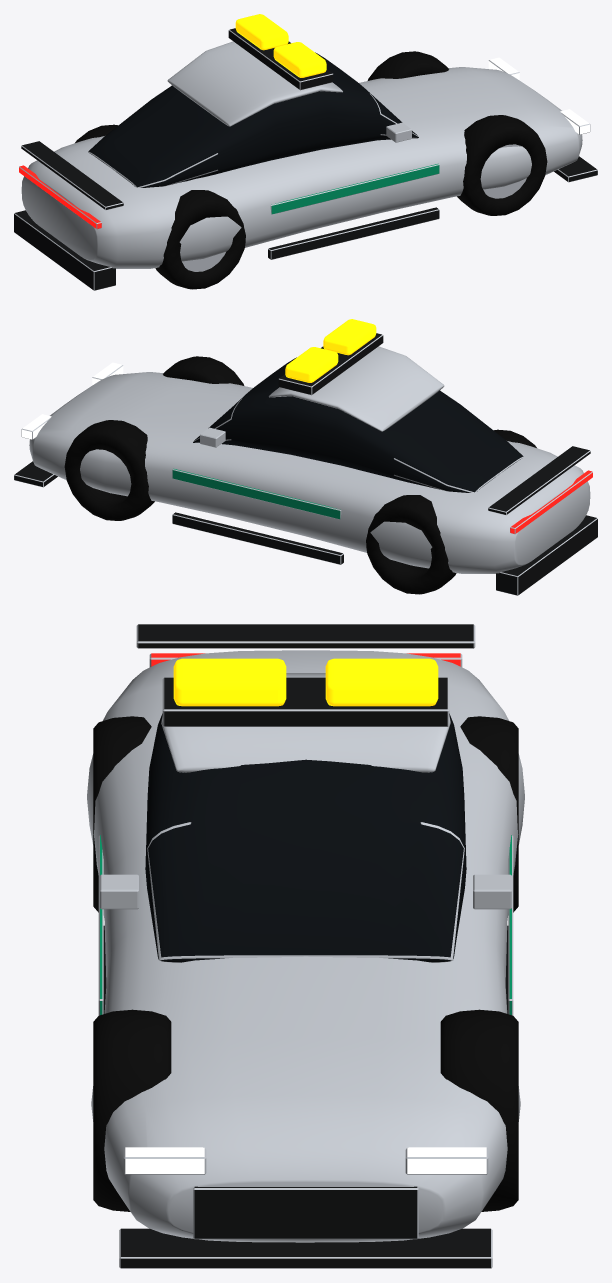
Rendered from safety_car.glb.
3 renders of one model, top to bottom at view 1: azimuth 30°, elevation 25°; view 2: azimuth 150°, elevation 25°; view 3: azimuth 270°, elevation 25°, orthographic. The views are drawn at different scales.
Visible parts, largest first — view 1: sc_body, sc_wheel_FR, sc_wheel_RR, sc_wheel_FL, lamp_R, lamp_L; view 2: sc_body, sc_wheel_FL, sc_wheel_RL, sc_wheel_FR, lamp_L, lamp_R; view 3: sc_body, sc_wheel_FL, sc_wheel_FR, lamp_L, lamp_R, sc_wheel_RL, sc_wheel_RR.
Boxes of the visible parts, x1,y1,x2,y2 form: sc_body: (14, 28, 597, 290); sc_wheel_FR: (457, 115, 547, 215); sc_wheel_RR: (155, 190, 245, 289); sc_wheel_FL: (367, 51, 448, 80); lamp_R: (273, 42, 326, 77); lamp_L: (235, 14, 288, 50); sc_body: (14, 333, 597, 595); sc_wheel_FL: (64, 420, 154, 520); sc_wheel_RL: (366, 495, 456, 594); sc_wheel_FR: (163, 356, 244, 385); lamp_L: (285, 347, 338, 382); lamp_R: (323, 319, 376, 355); sc_body: (87, 624, 524, 1268); sc_wheel_FL: (440, 1009, 518, 1211); sc_wheel_FR: (93, 1009, 171, 1211); lamp_L: (325, 658, 438, 706); lamp_R: (173, 658, 286, 706); sc_wheel_RL: (460, 716, 518, 912); sc_wheel_RR: (93, 716, 151, 912).
Size of the model in its own units: 26.5 by 9.3 by 10.1.
